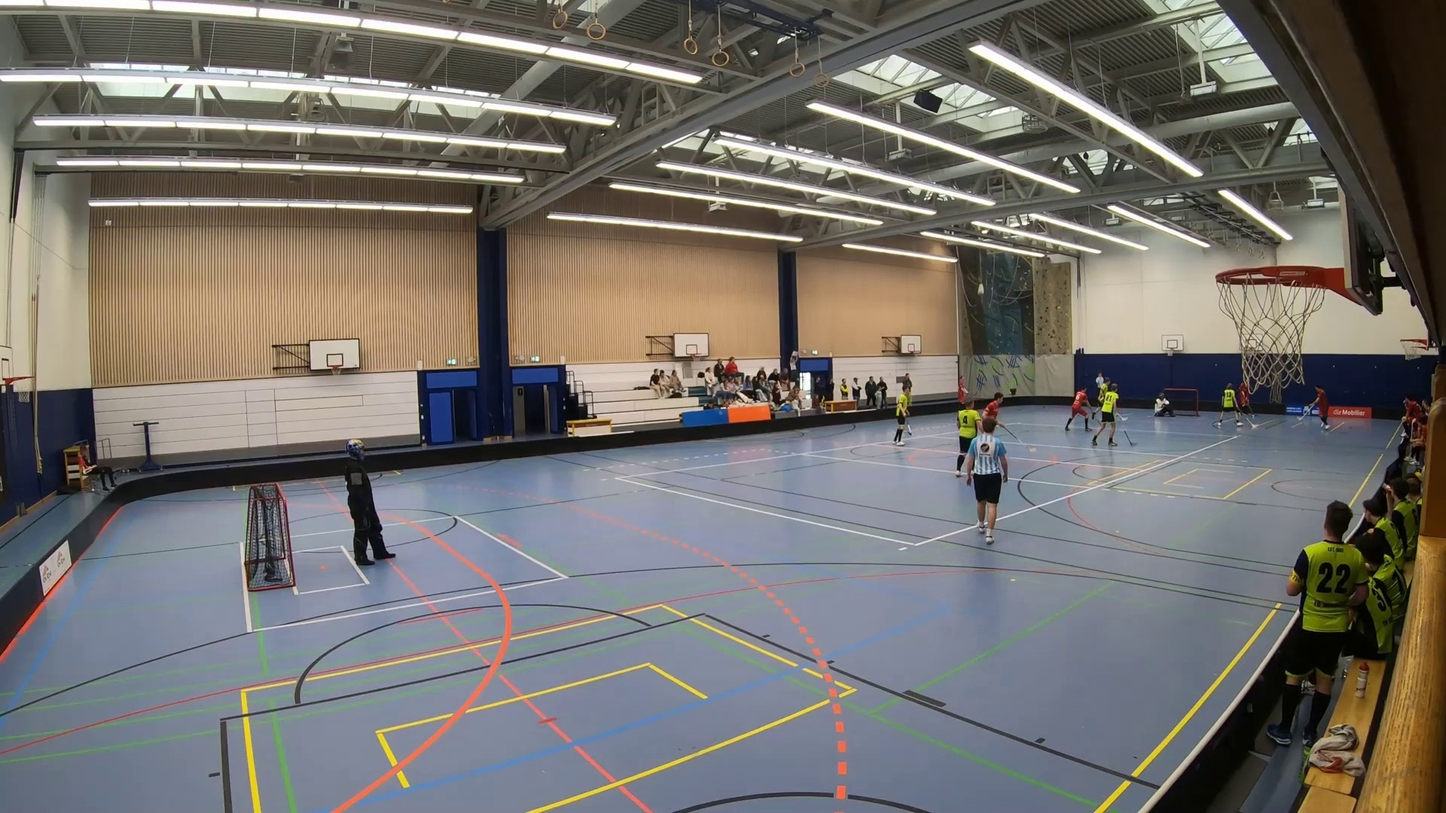Schiri: (965, 424, 1015, 546), (1094, 371, 1104, 387)
goalkeeper: (340, 420, 394, 574), (1152, 387, 1174, 422)
player: (951, 405, 979, 482), (1094, 380, 1124, 444), (1065, 380, 1093, 435), (890, 383, 912, 452), (1308, 380, 1335, 430), (977, 383, 1002, 430), (1221, 379, 1241, 431), (948, 367, 970, 414), (1092, 377, 1111, 419), (1236, 380, 1253, 415)
